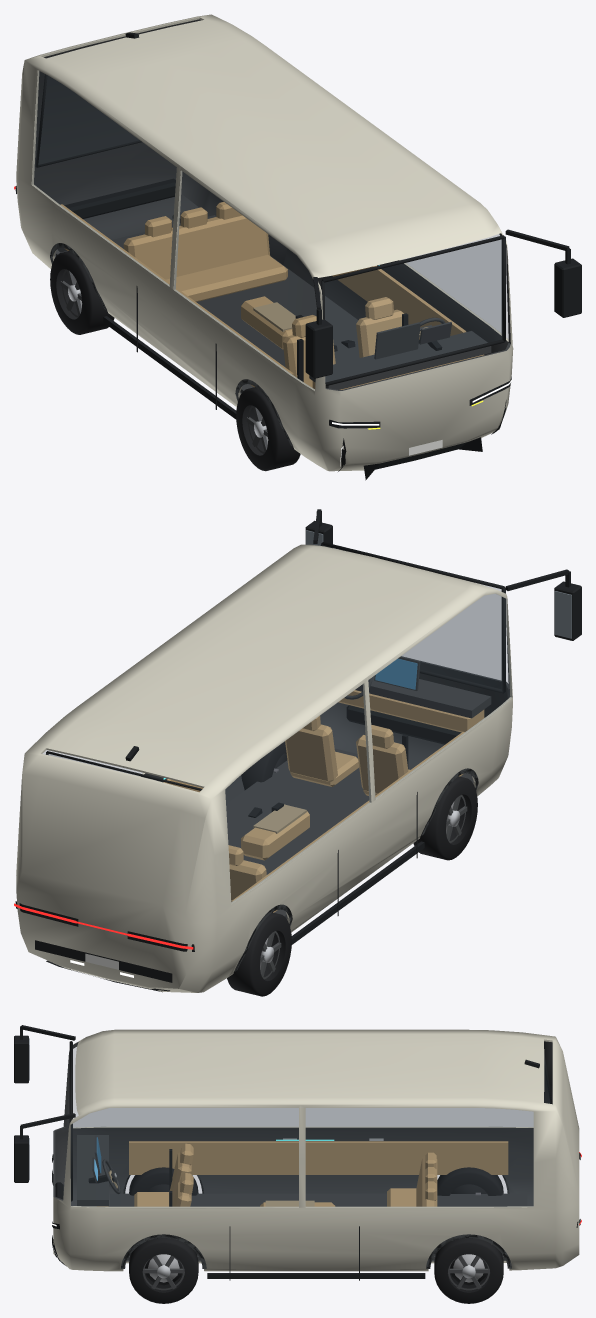
The model's file is training-van.glb.
3 renders of one model, top to bottom at view 1: azimuth 30°, elevation 25°; view 2: azimuth 150°, elevation 25°; view 3: azimuth 270°, elevation 25°, orthographic. The views are drawn at different scales.
Parts seen in each view (by area): view 1: Body, Surface_CarRoot_Glass, Interior_CarRoot_InteriorLeather, Surface_CarRoot_BlackTrim, Interior_CarRoot_InteriorDark, Surface_WheelFrontR_Tyre, Surface_WheelRearR_Tyre, Interior_CarRoot_InteriorTrim, Surface_CarRoot_Cladding, Interior_CarRoot_BlackTrim; view 2: Body, Surface_CarRoot_Glass, Interior_CarRoot_InteriorLeather, Interior_CarRoot_InteriorDark, Surface_CarRoot_BlackTrim, Surface_WheelRearR_Tyre, Surface_WheelFrontR_Tyre, Surface_CarRoot_MirrorGlass, Surface_WheelFrontL_Tyre, InteriorCenterScreen, Interior_CarRoot_InteriorTrim, InteriorSeatBaseL (+1 smaller); view 3: Body, Surface_CarRoot_Glass, Interior_CarRoot_InteriorLeather, Interior_CarRoot_InteriorDark, Surface_CarRoot_BlackTrim, Surface_WheelRearL_Tyre, Surface_WheelFrontL_Tyre, Surface_WheelRearR_Tyre, Surface_CarRoot_Cladding, Surface_WheelFrontR_Tyre, Surface_WheelFrontL_Rim, Surface_WheelRearL_Rim (+2 smaller).
Boxes of the visible parts, x1=… form: Body: x1=16, y1=14, x2=513, y2=471; Surface_CarRoot_Glass: x1=32, y1=71, x2=508, y2=390; Interior_CarRoot_InteriorLeather: x1=60, y1=202, x2=483, y2=389; Surface_CarRoot_BlackTrim: x1=15, y1=32, x2=581, y2=480; Interior_CarRoot_InteriorDark: x1=56, y1=215, x2=491, y2=392; Surface_WheelFrontR_Tyre: x1=236, y1=387, x2=300, y2=471; Surface_WheelRearR_Tyre: x1=50, y1=251, x2=114, y2=334; Interior_CarRoot_InteriorTrim: x1=253, y1=302, x2=295, y2=331; Surface_CarRoot_Cladding: x1=50, y1=243, x2=292, y2=446; Interior_CarRoot_BlackTrim: x1=295, y1=313, x2=442, y2=381; Body: x1=16, y1=544, x2=512, y2=992; Surface_CarRoot_Glass: x1=43, y1=585, x2=511, y2=903; Interior_CarRoot_InteriorLeather: x1=163, y1=690, x2=484, y2=912; Interior_CarRoot_InteriorDark: x1=226, y1=656, x2=491, y2=918; Surface_CarRoot_BlackTrim: x1=15, y1=509, x2=581, y2=992; Surface_WheelRearR_Tyre: x1=227, y1=912, x2=291, y2=996; Surface_WheelFrontR_Tyre: x1=413, y1=776, x2=477, y2=860; Surface_CarRoot_MirrorGlass: x1=306, y1=530, x2=571, y2=638; Surface_WheelFrontL_Tyre: x1=241, y1=741, x2=287, y2=790; InteriorCenterScreen: x1=375, y1=658, x2=417, y2=689; Interior_CarRoot_InteriorTrim: x1=253, y1=804, x2=306, y2=833; InteriorSeatBaseL: x1=290, y1=751, x2=358, y2=786; Body: x1=53, y1=1029, x2=579, y2=1271; Surface_CarRoot_Glass: x1=71, y1=1047, x2=550, y2=1206; Interior_CarRoot_InteriorLeather: x1=97, y1=1141, x2=508, y2=1206; Interior_CarRoot_InteriorDark: x1=77, y1=1135, x2=527, y2=1259; Surface_CarRoot_BlackTrim: x1=14, y1=1025, x2=580, y2=1280; Surface_WheelRearL_Tyre: x1=434, y1=1238, x2=503, y2=1303; Surface_WheelFrontL_Tyre: x1=129, y1=1238, x2=198, y2=1303; Surface_WheelRearR_Tyre: x1=437, y1=1167, x2=503, y2=1195; Surface_CarRoot_Cladding: x1=121, y1=1175, x2=511, y2=1268; Surface_WheelFrontR_Tyre: x1=129, y1=1167, x2=198, y2=1195; Surface_WheelFrontL_Rim: x1=142, y1=1255, x2=184, y2=1290; Surface_WheelRearL_Rim: x1=448, y1=1255, x2=489, y2=1290.
Bounding box in the file's own units: 2.71 × 2.39 × 6.05.
